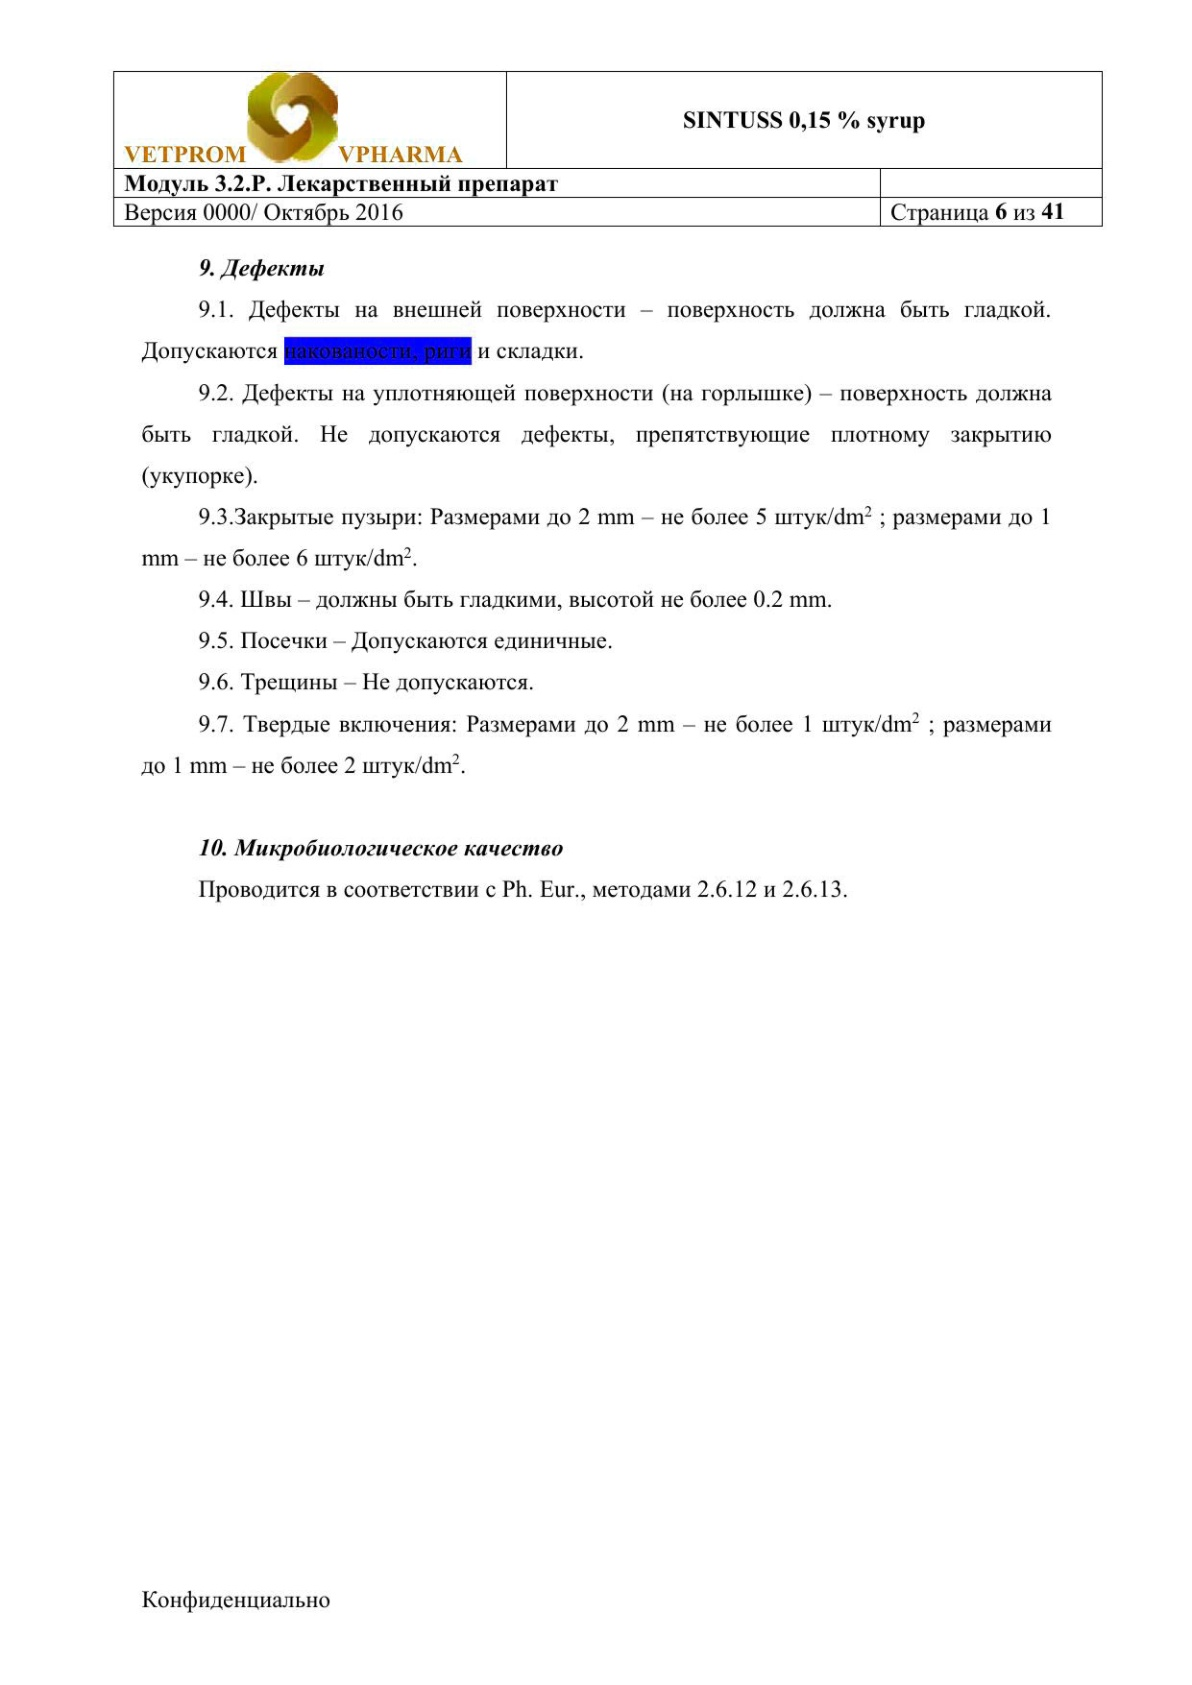merged_cells: (111, 68, 1103, 228)
